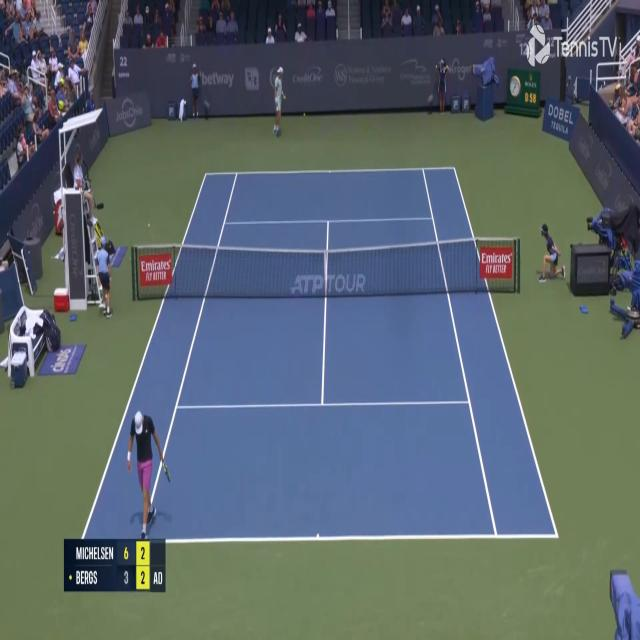tennis-player: (126, 411, 170, 541), (272, 64, 286, 138)
